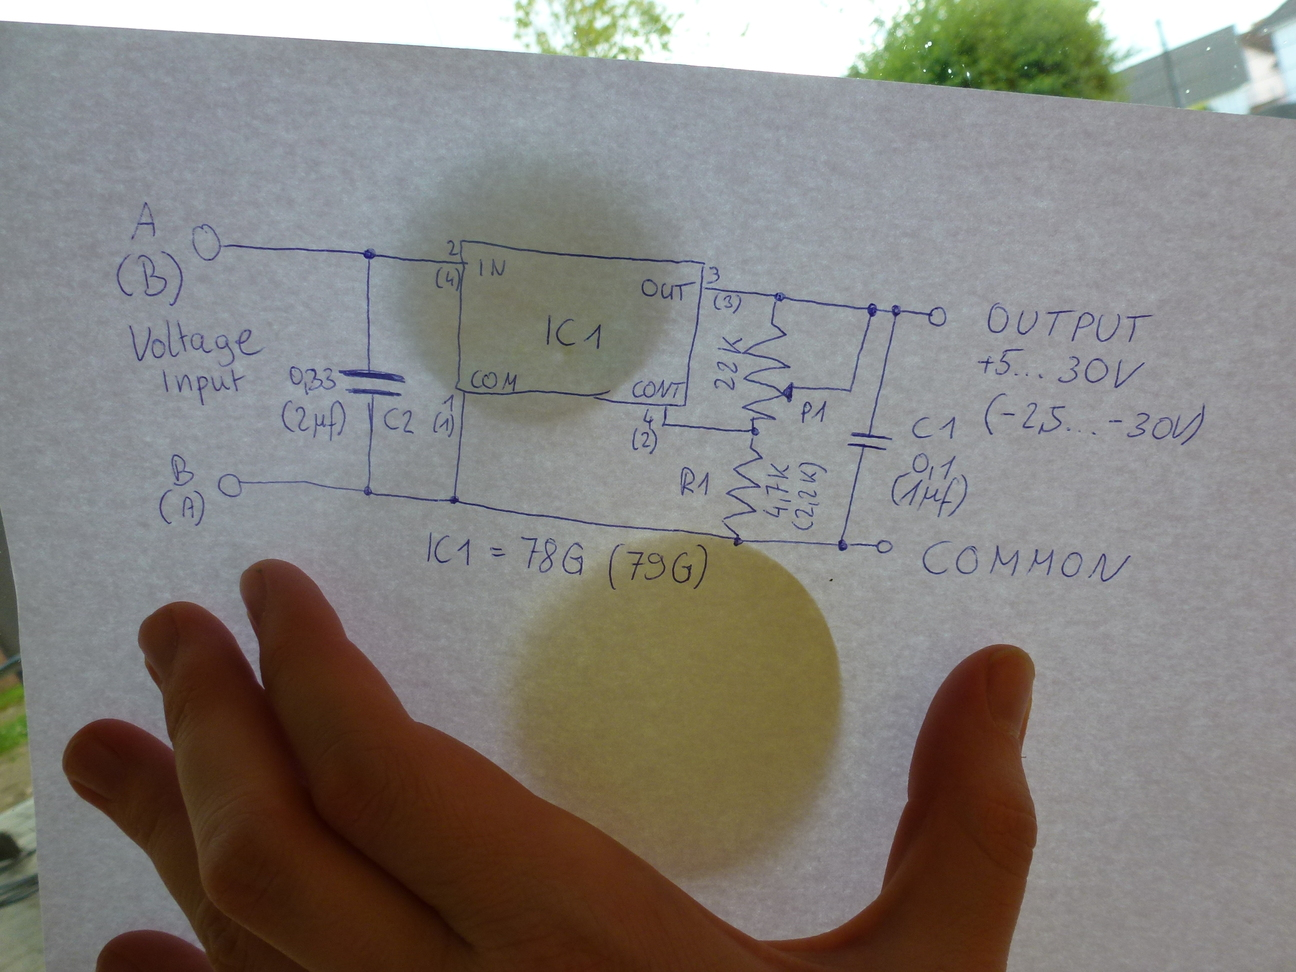capacitor.unpolarized: (337, 366, 408, 399), (844, 428, 893, 453)
integrated_circuit: (453, 236, 710, 411)
junction: (864, 300, 882, 318), (834, 536, 850, 553), (360, 246, 377, 262), (447, 492, 462, 508), (887, 302, 903, 318), (360, 483, 375, 499), (730, 533, 744, 548), (770, 290, 785, 304), (747, 425, 762, 438), (658, 419, 671, 431), (845, 384, 855, 395)
resistor: (720, 444, 762, 534)
resistor.adjustable: (741, 320, 797, 423)
terminal: (190, 224, 227, 263), (214, 469, 245, 499), (923, 303, 950, 328), (874, 537, 895, 555)
text: (423, 527, 709, 593), (983, 391, 1206, 446), (918, 542, 1131, 585), (126, 315, 271, 369), (985, 300, 1154, 345), (973, 347, 1146, 390), (113, 249, 187, 309), (156, 364, 249, 410), (890, 470, 970, 519), (280, 397, 349, 441), (790, 459, 830, 532), (542, 313, 604, 353), (156, 487, 207, 527), (711, 334, 743, 393), (761, 458, 791, 519), (127, 197, 162, 243), (288, 363, 337, 396), (911, 450, 958, 482), (909, 414, 960, 441), (676, 464, 713, 500), (631, 376, 683, 402), (468, 367, 517, 391), (641, 278, 688, 302), (382, 405, 416, 436), (168, 452, 196, 487), (797, 398, 830, 426), (473, 254, 507, 279), (630, 425, 656, 455), (434, 266, 462, 292), (710, 292, 741, 315), (432, 411, 456, 437), (440, 392, 456, 414), (706, 265, 722, 285), (445, 239, 461, 257), (641, 409, 657, 425)
